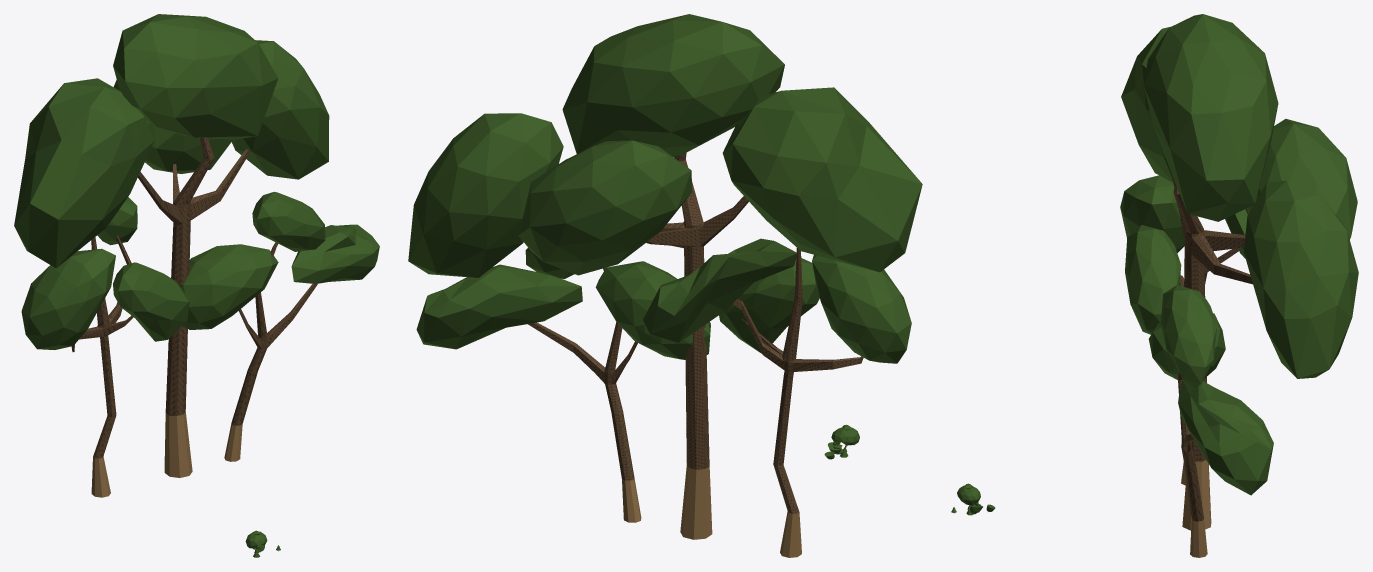
File: two_tree.glb
3 views of the same model, side by side, from view 1: azimuth 30°, elevation 25°; view 2: azimuth 150°, elevation 25°; view 3: azimuth 270°, elevation 25° (orthographic). The views are drawn at different scales.
Visible parts, largest first — view 1: C-skpEFB7; view 2: C-skpEFB7; view 3: C-skpEFB7.
Boxes of the visible parts, <box> form: C-skpEFB7: <box>14,14,379,497</box>; C-skpEFB7: <box>408,14,922,557</box>; C-skpEFB7: <box>1120,14,1358,557</box>.
Bounding box in the file's own units: 6.53 × 7.35 × 5.42.
3 materials, 1 textured.
